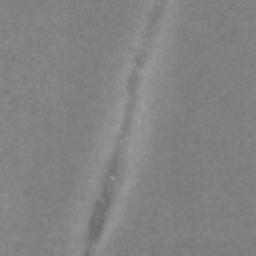Finishing roll printing: (32, 46, 92, 228), (84, 0, 105, 40), (27, 232, 41, 247)
